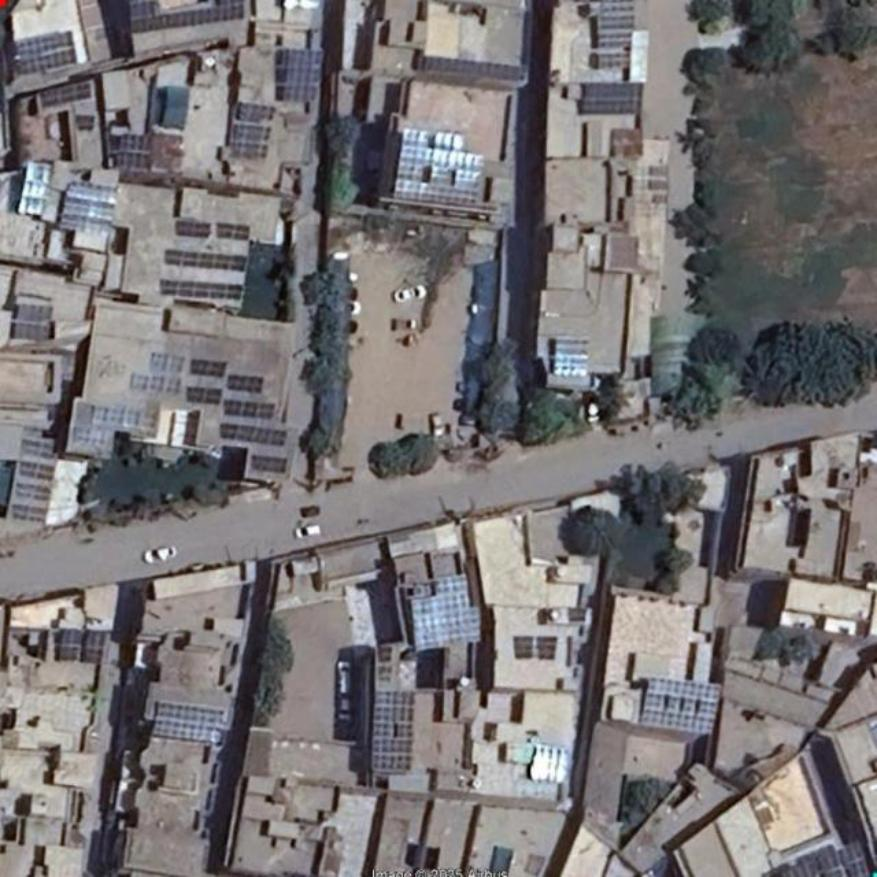Solarpanel: (393, 129, 484, 201), (414, 570, 483, 651), (641, 677, 725, 735), (127, 0, 244, 32), (372, 690, 415, 769), (154, 701, 225, 744), (227, 99, 274, 158), (422, 56, 526, 82), (14, 31, 74, 73), (598, 0, 633, 66), (281, 49, 326, 99), (17, 162, 51, 219), (163, 249, 248, 270), (782, 847, 843, 876), (581, 83, 644, 111), (161, 280, 241, 301), (219, 425, 288, 446), (551, 336, 587, 374), (14, 306, 53, 340), (60, 632, 103, 661), (117, 134, 150, 167), (41, 84, 89, 105), (18, 437, 61, 459), (842, 841, 869, 876), (225, 399, 273, 417), (227, 372, 263, 393), (191, 356, 227, 376), (252, 456, 286, 473), (187, 386, 221, 403), (20, 463, 54, 480), (217, 221, 249, 239), (16, 485, 52, 501), (176, 223, 209, 239), (13, 504, 43, 521), (537, 638, 556, 659), (517, 639, 533, 657)
